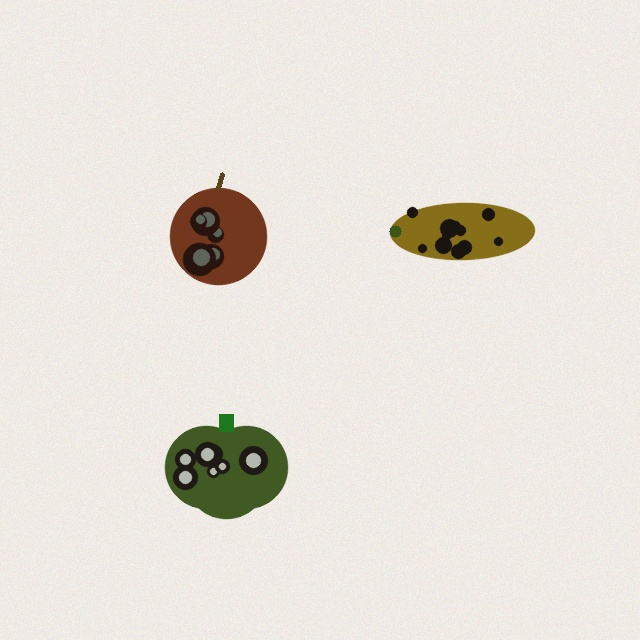Rotten apple: (170, 174, 266, 284)
Rotten banana: (387, 196, 537, 266)
Rotten bell pepper: (165, 414, 287, 518)
